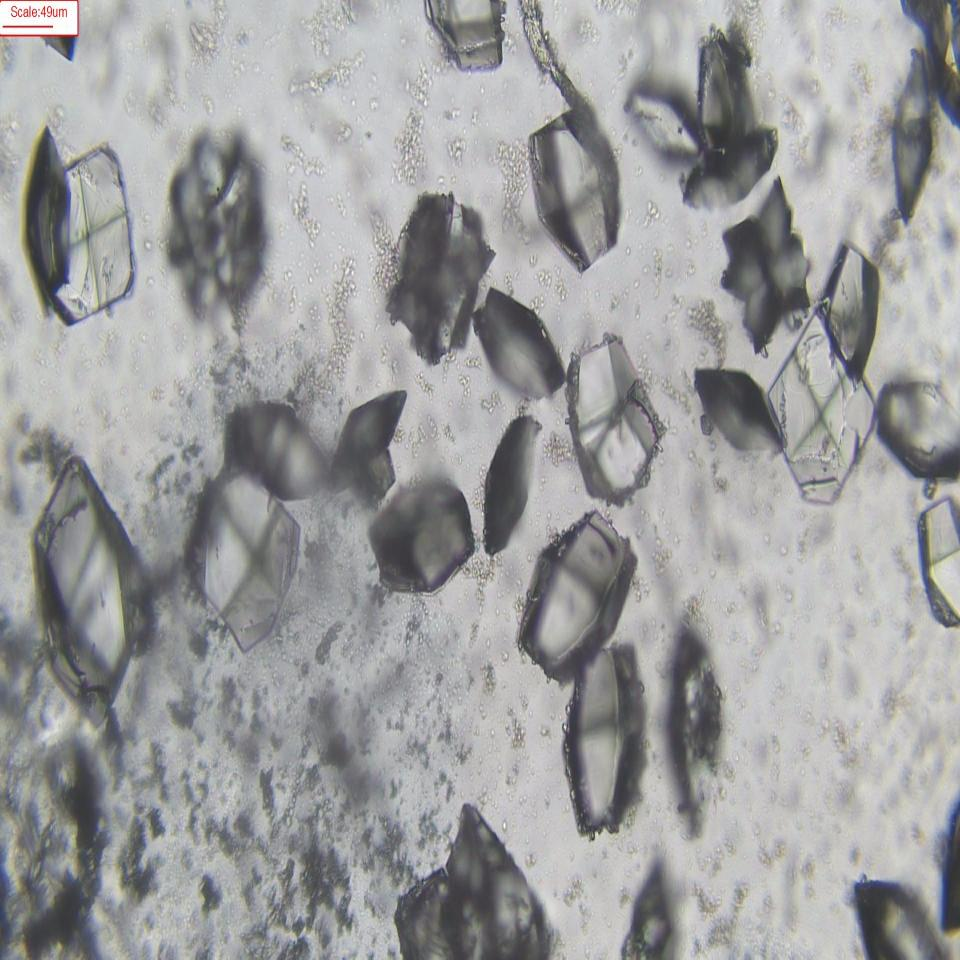crystal: (30, 460, 141, 680), (764, 306, 882, 508), (161, 122, 275, 327), (187, 471, 307, 657), (519, 503, 631, 685), (523, 109, 626, 279), (564, 644, 647, 845), (566, 338, 664, 496), (721, 178, 814, 342), (49, 149, 138, 319), (392, 197, 487, 353), (369, 476, 481, 607), (869, 356, 960, 494), (471, 290, 566, 394), (814, 229, 882, 367), (697, 364, 787, 464), (483, 410, 532, 548), (916, 493, 960, 632)
